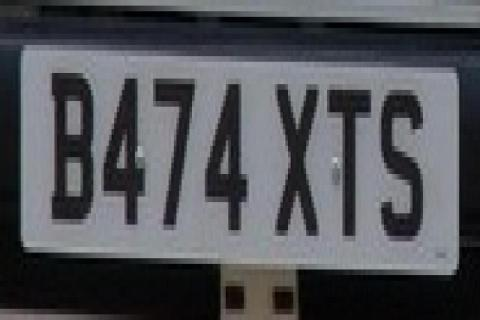LicensePlate: (15, 32, 454, 282)
